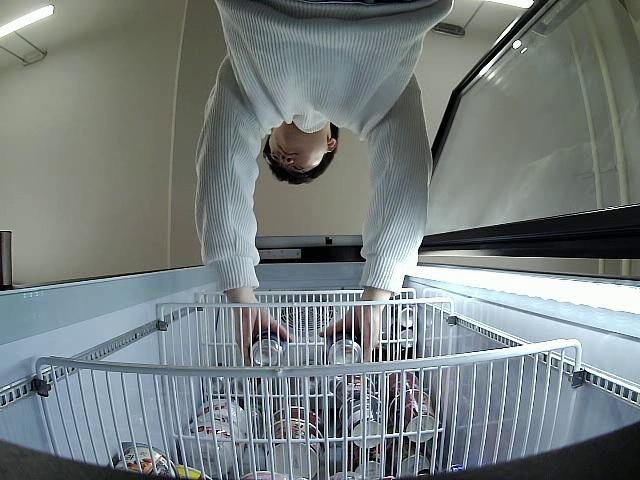00_hand: (235, 300, 292, 367), (320, 301, 381, 363)
14_welchsGrape: (247, 327, 287, 367), (327, 327, 361, 366)
